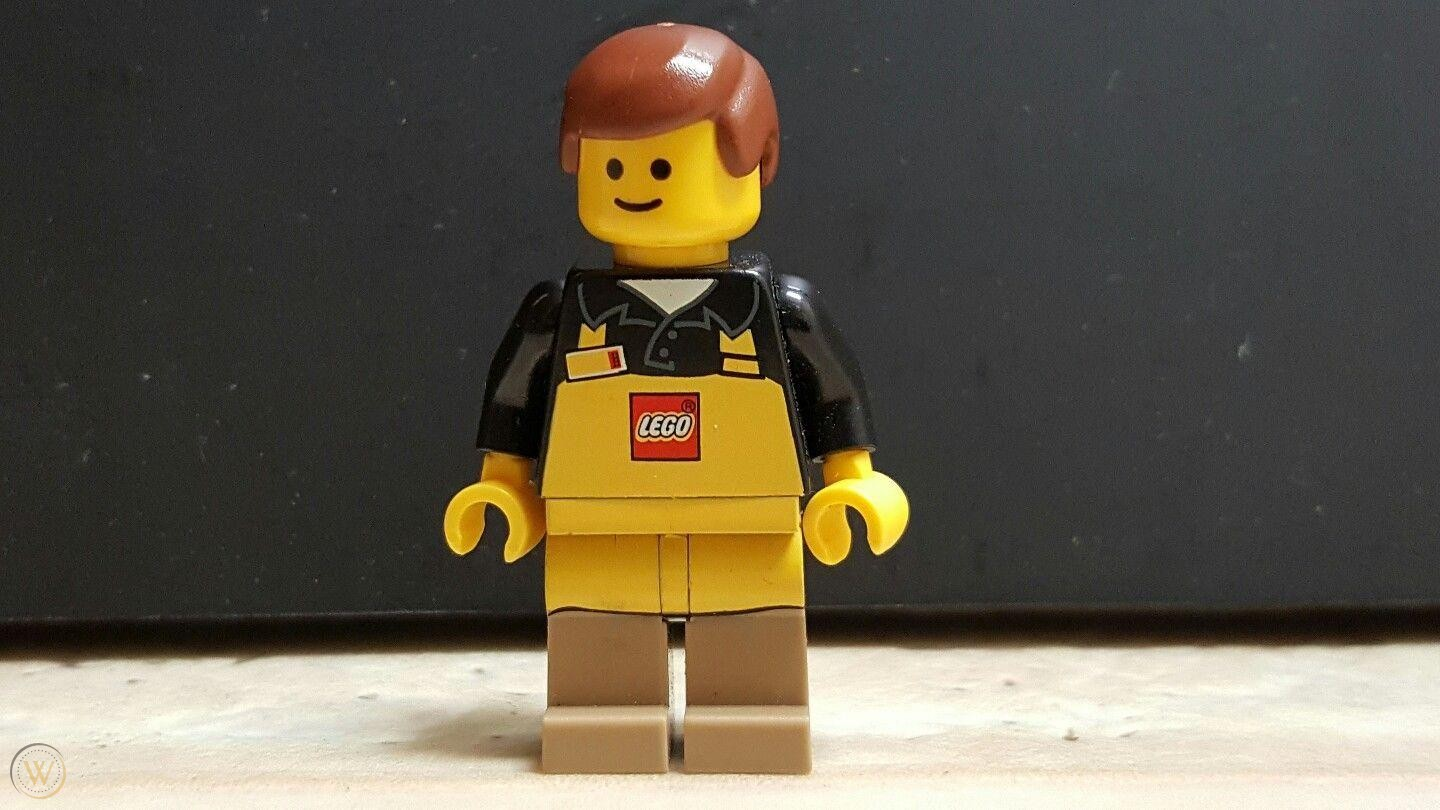lego: (422, 14, 931, 783)
